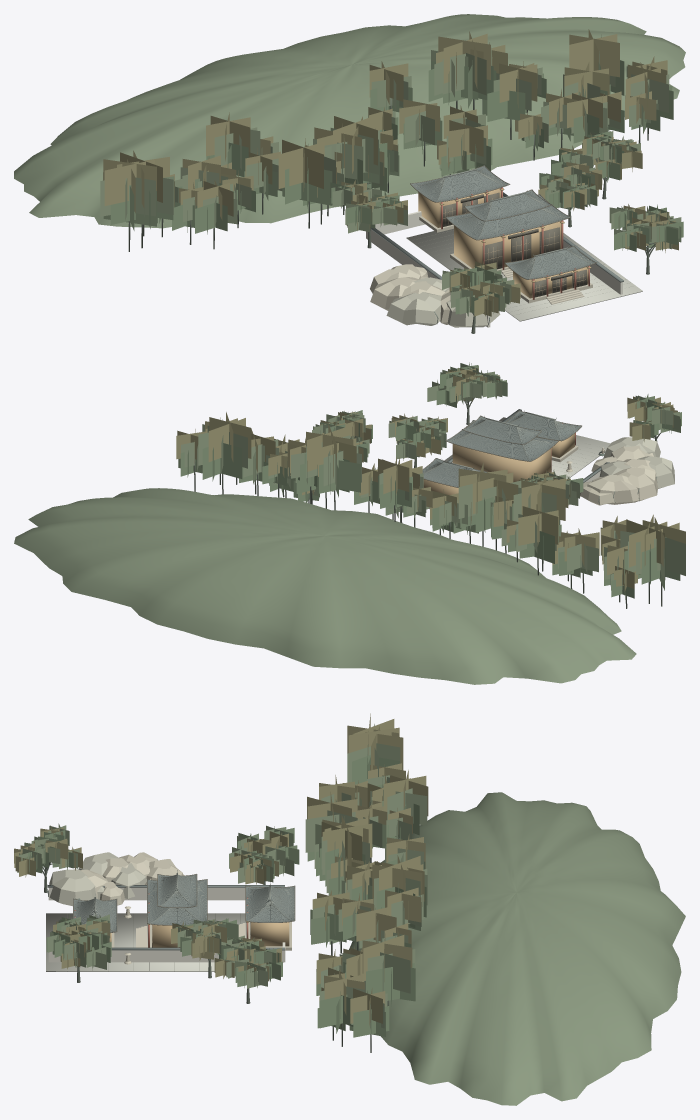
Rendered from lingyin.glb.
3 renders of one model, top to bottom at view 1: azimuth 30°, elevation 25°; view 2: azimuth 150°, elevation 25°; view 3: azimuth 270°, elevation 25°, orthographic. The views are drawn at different scales.
Parts seen in each view (by area): view 1: earth, crown2, crown1, crown0, roof, ridge, wooddark, paving, ochre, stone, stone2, plaster (+2 smaller); view 2: earth, crown2, crown0, crown1, roof, ridge, stone, ochre, stone2, paving, bark, wooddark; view 3: earth, crown2, crown1, crown0, roof, ridge, paving, stone2, stone, plaster, ochre, wooddark.
Boxes of the visible parts, x1,y1,x2,y2 form: earth: (14,14,685,228); crown2: (103,29,678,316); crown1: (100,34,681,315); crown0: (103,57,683,316); roof: (371,166,623,282); ridge: (411,165,595,278); wooddark: (410,165,597,297); paving: (406,228,642,321); ochre: (418,188,588,298); stone: (370,216,592,324); stone2: (386,277,500,327); plaster: (366,196,622,327); earth: (14,488,636,684); crown2: (176,368,685,591); crown0: (178,363,681,599); crown1: (181,362,685,591); roof: (422,409,609,487); ridge: (423,410,581,486); stone: (551,445,657,505); ochre: (423,433,574,495); stone2: (599,437,674,488); paving: (444,417,610,479); bark: (194,397,664,608); wooddark: (422,410,581,487); earth: (349,792,685,1105); crown2: (14,713,428,1025); crown1: (17,724,427,1029); crown0: (19,754,426,1037); roof: (47,874,294,950); ridge: (73,870,294,931); paving: (46,913,246,971); stone2: (49,852,146,906); stone: (80,852,291,964); plaster: (48,887,285,962); ochre: (109,922,289,947); wooddark: (73,874,295,947).
Size of what is drawn, in the model's own units: 134 by 22.87 by 123.
